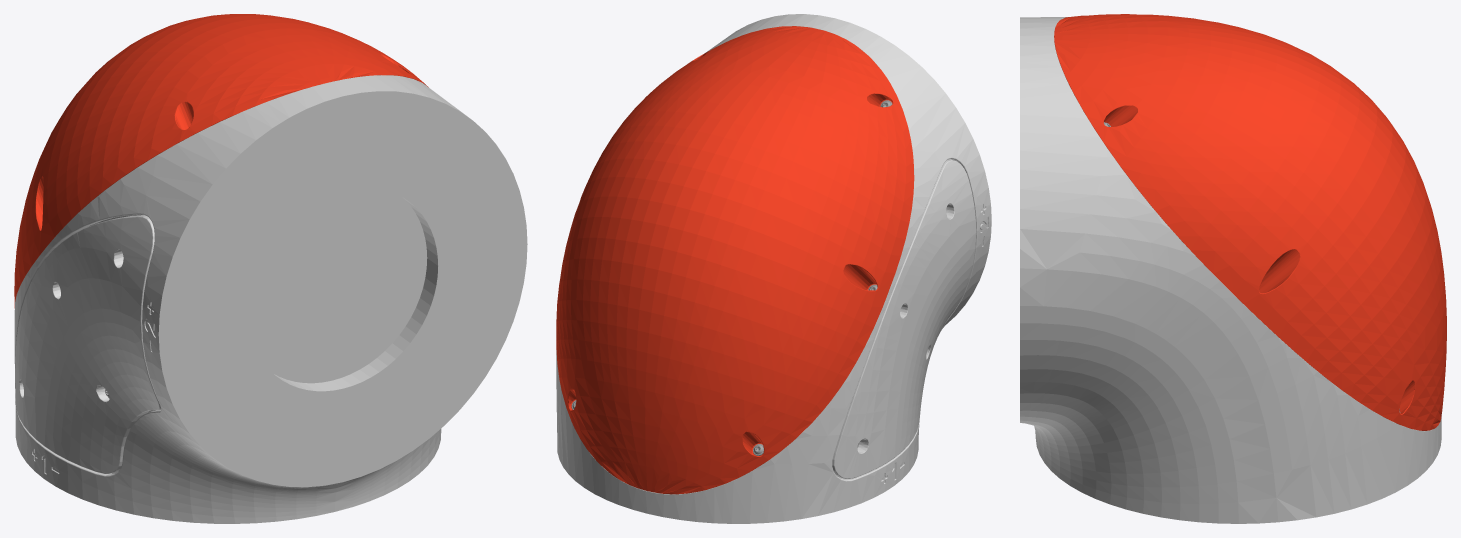
The picture shows the model from 3 angles, left to right: view 1: azimuth 30°, elevation 25°; view 2: azimuth 150°, elevation 25°; view 3: azimuth 270°, elevation 25°; orthographic projection. The views are drawn at different scales.
Parts seen in each view (by area): view 1: link_1; view 2: link_1; view 3: link_1.
Part boxes in pixels (box(x1,y1,x2,y2)): link_1: box(14, 14, 527, 523); link_1: box(556, 14, 991, 523); link_1: box(1020, 14, 1446, 523).
Size of the model in its own units: 0.194 by 0.204 by 0.2242.
